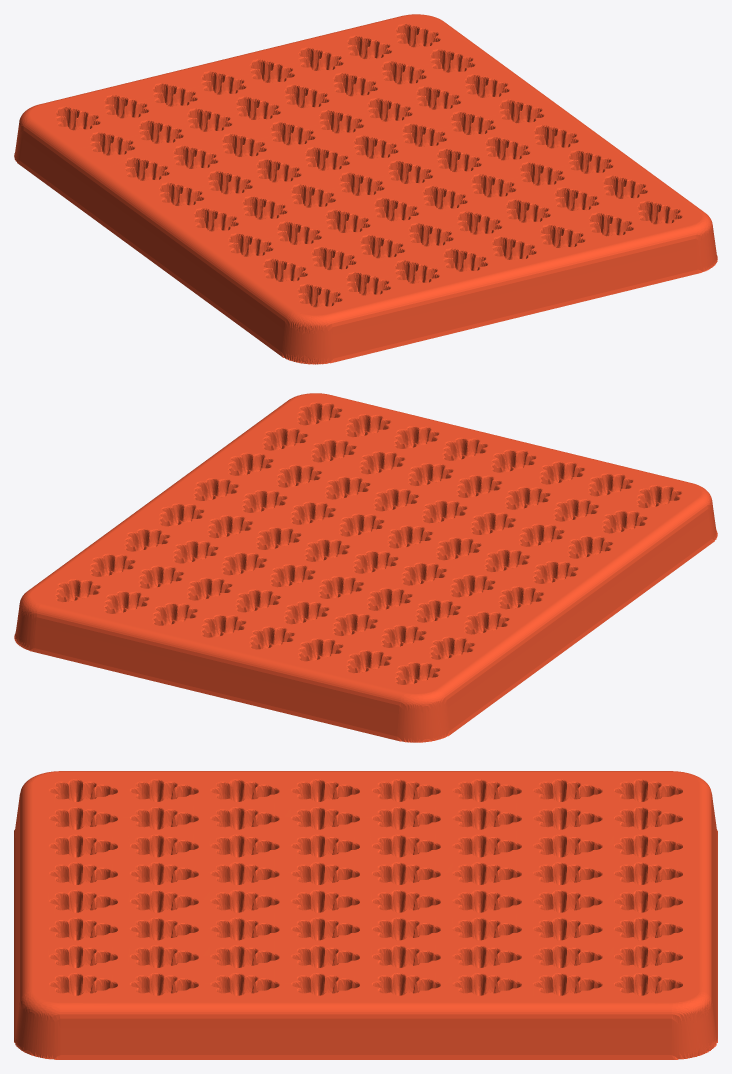
File: mold.glb
3 renders of one model, top to bottom at view 1: azimuth 30°, elevation 25°; view 2: azimuth 150°, elevation 25°; view 3: azimuth 270°, elevation 25°, orthographic. The views are drawn at different scales.
Parts seen in each view (by area): view 1: geometry_0; view 2: geometry_0; view 3: geometry_0.
Boxes of the visible parts, left/top/right/bottom form: geometry_0: left=14, top=14, right=717, bottom=364; geometry_0: left=14, top=393, right=717, bottom=742; geometry_0: left=14, top=771, right=717, bottom=1059.
Size of the model in its own units: 0.1121 by 0.0105 by 0.1355.
